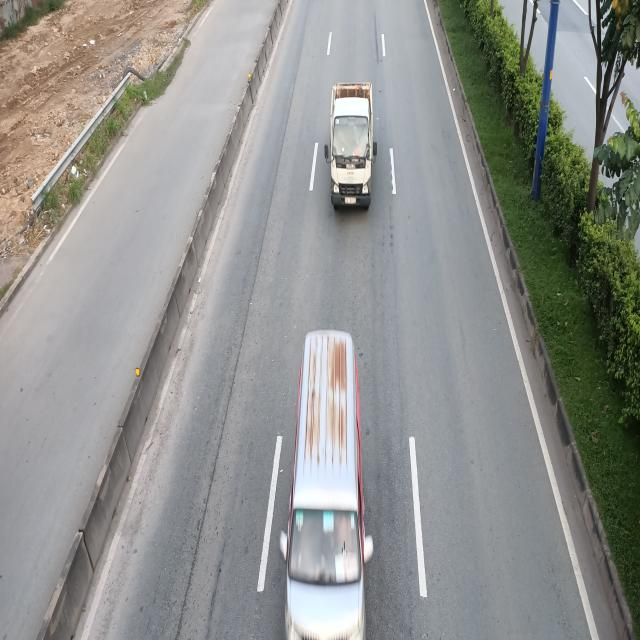truck: (324, 82, 378, 210)
van: (280, 330, 372, 640)
